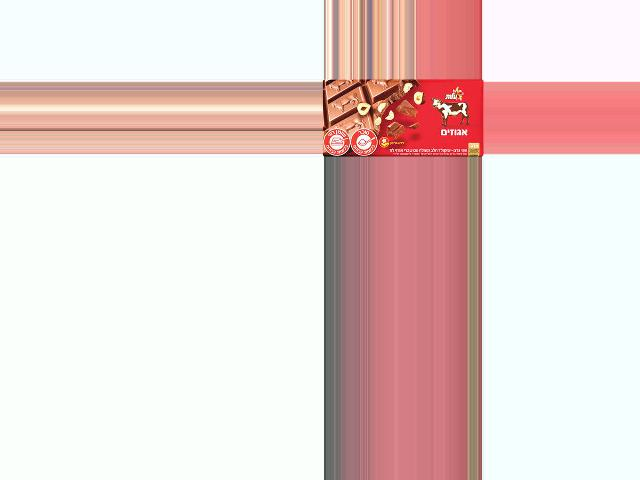chocolate: (323, 80, 484, 154)
